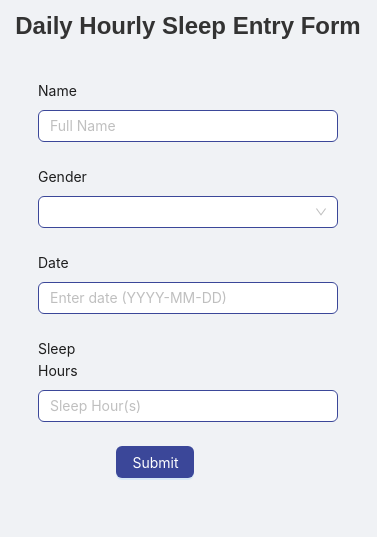
Post Form › Test Date Formate validations
Type "04-05-2004" into the field labelled "Date".
click(188, 298); type("04-05-2004")  # box [38, 282, 338, 314]
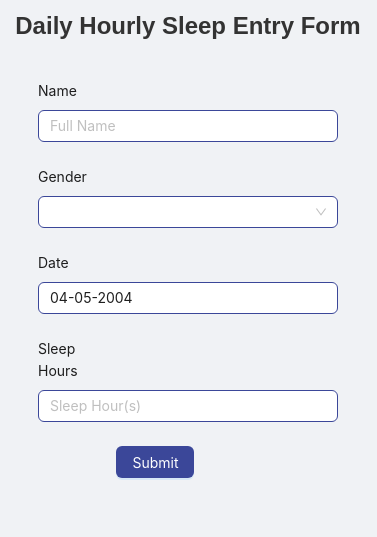
Click the button "Submit".
click(155, 462)  # box [116, 446, 194, 478]
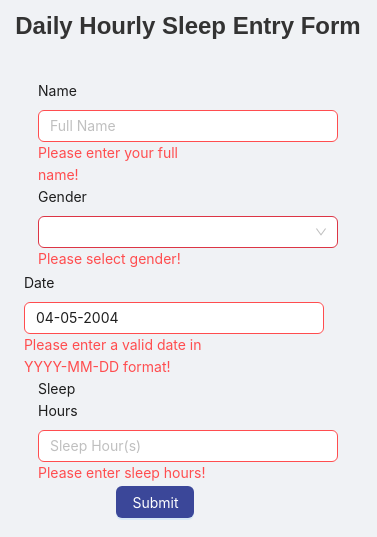
Check: the text "Please enter a valid date in YYYY-MM-DD format!" is shown, box [24, 334, 215, 378]
